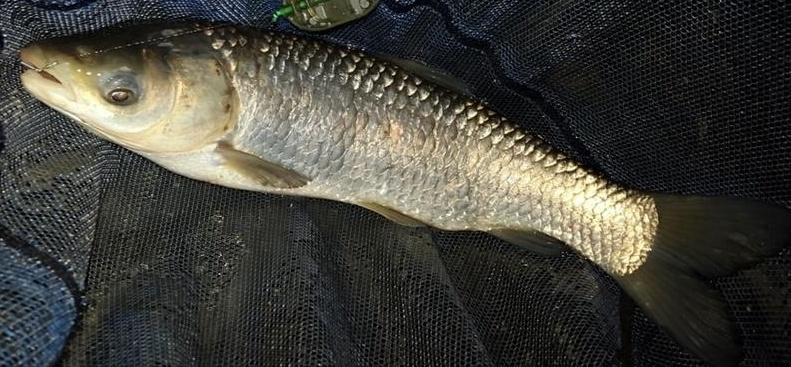Silver Barb: (19, 13, 783, 365)
